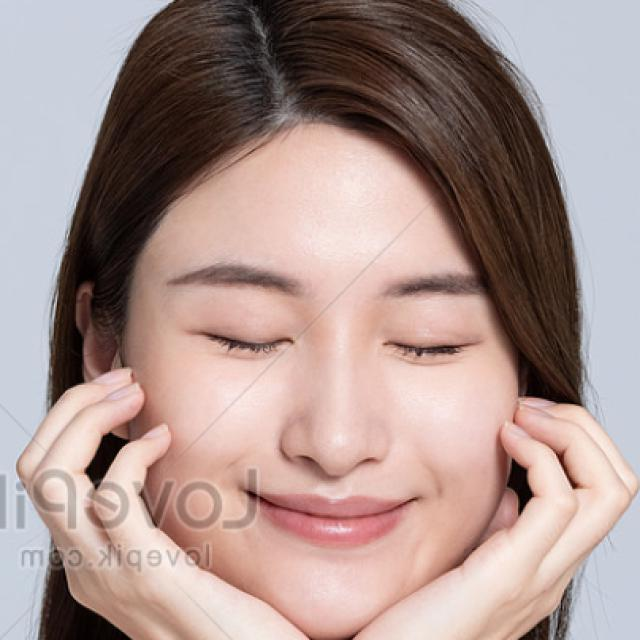close: (356, 256, 516, 389), (155, 255, 308, 371)
